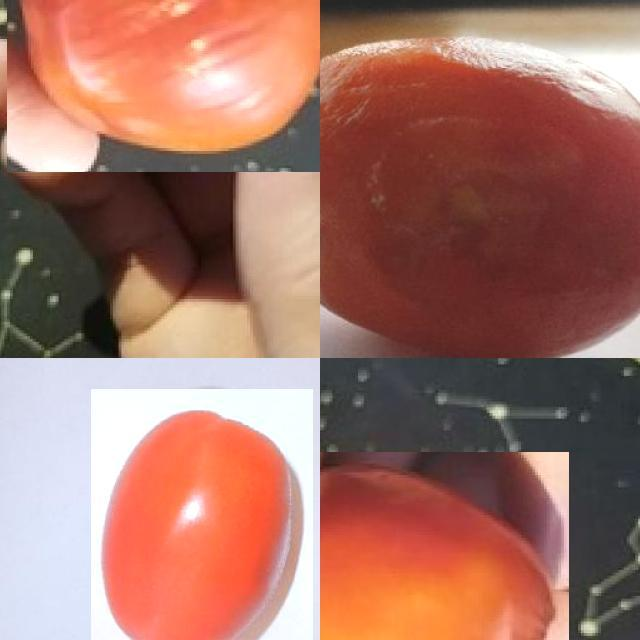Fresh Tomato: (91, 389, 313, 640)
Rotten Tomato: (320, 0, 640, 358), (7, 0, 320, 172), (320, 452, 569, 640)
